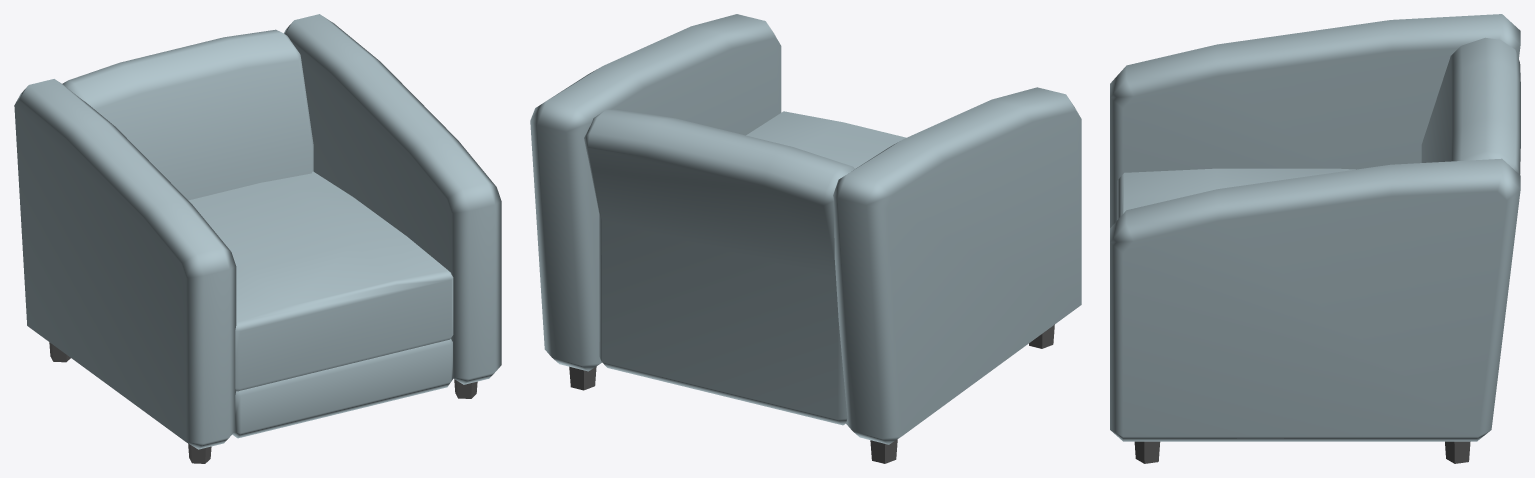
File: armchair_008.glb
The picture shows the model from 3 angles, left to right: view 1: azimuth 30°, elevation 25°; view 2: azimuth 150°, elevation 25°; view 3: azimuth 270°, elevation 25°; orthographic projection. The views are drawn at different scales.
Visible parts, largest first — view 1: armchair_008; view 2: armchair_008; view 3: armchair_008.
Boxes of the visible parts, bbox=[...] form: armchair_008: bbox=[14, 14, 501, 463]; armchair_008: bbox=[530, 14, 1081, 463]; armchair_008: bbox=[1110, 14, 1520, 463].
Size of the model in its own units: 0.8579 by 0.6868 by 0.8659.
Materials: 1 (1 with a texture image).
